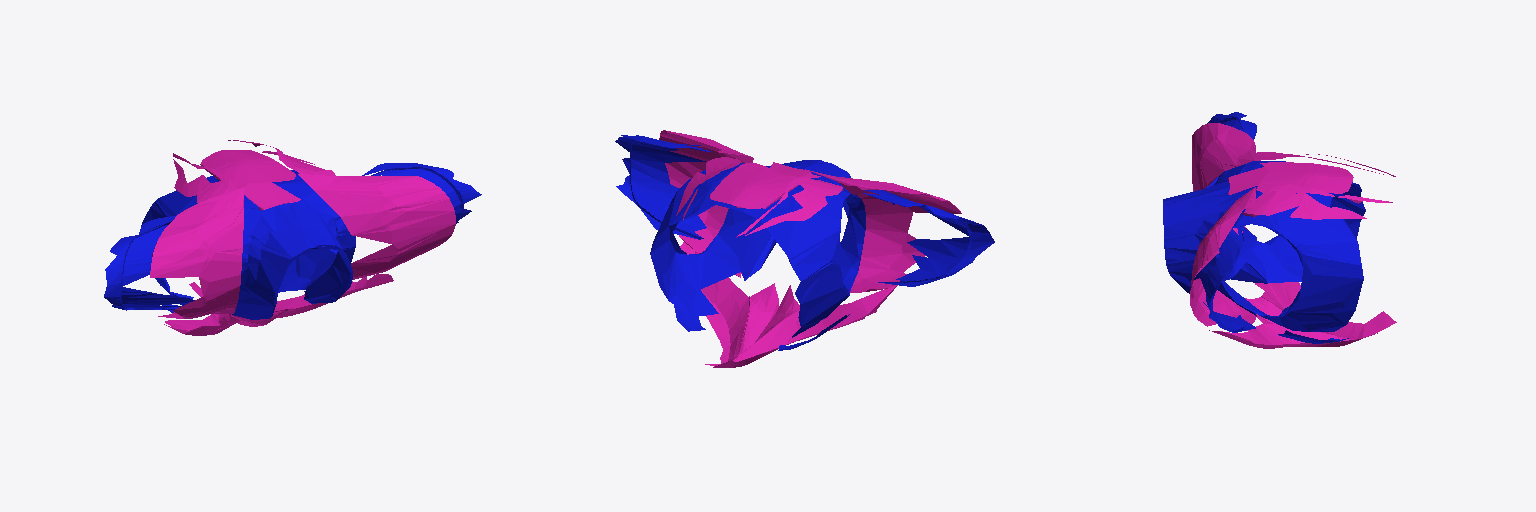
The model's file is armor.obj.
The picture shows the model from 3 angles: view 1: azimuth 30°, elevation 25°; view 2: azimuth 150°, elevation 25°; view 3: azimuth 270°, elevation 25°; orthographic projection.
Parts seen in each view (by area): view 1: Object.14, Object.10, Object.12, Object.13, Object.1, Object.3, Object.11, Object.4, Object.5; view 2: Object.14, Object.1, Object.12, Object.11, Object.13, Object.10, Object.3, Object.5, Object.8; view 3: Object.14, Object.1, Object.12, Object.10, Object.11, Object.3, Object.8, Object.4, Object.13, Object.9.
Part boxes in pixels (bbox=[...]): Object.14: bbox=[142, 170, 355, 319]; Object.10: bbox=[298, 170, 455, 279]; Object.12: bbox=[150, 187, 243, 318]; Object.13: bbox=[104, 215, 194, 310]; Object.1: bbox=[164, 274, 393, 335]; Object.3: bbox=[200, 150, 295, 188]; Object.11: bbox=[362, 163, 481, 223]; Object.4: bbox=[244, 182, 300, 210]; Object.5: bbox=[173, 159, 228, 202]; Object.14: bbox=[650, 160, 865, 337]; Object.1: bbox=[680, 242, 896, 367]; Object.12: bbox=[805, 169, 961, 292]; Object.11: bbox=[615, 135, 710, 239]; Object.13: bbox=[863, 190, 994, 286]; Object.10: bbox=[659, 130, 753, 277]; Object.3: bbox=[709, 163, 799, 208]; Object.5: bbox=[745, 179, 842, 235]; Object.8: bbox=[676, 157, 736, 215]; Object.14: bbox=[1163, 161, 1365, 331]; Object.1: bbox=[1209, 282, 1396, 348]; Object.12: bbox=[1192, 123, 1255, 234]; Object.10: bbox=[1190, 187, 1256, 326]; Object.11: bbox=[1199, 224, 1256, 332]; Object.3: bbox=[1256, 162, 1353, 193]; Object.8: bbox=[1242, 191, 1366, 219]; Object.4: bbox=[1228, 167, 1268, 194]; Object.13: bbox=[1205, 112, 1256, 229]; Object.9: bbox=[1256, 184, 1392, 203].
Bounding box in the file's own units: 63.67 × 27.54 × 33.91.